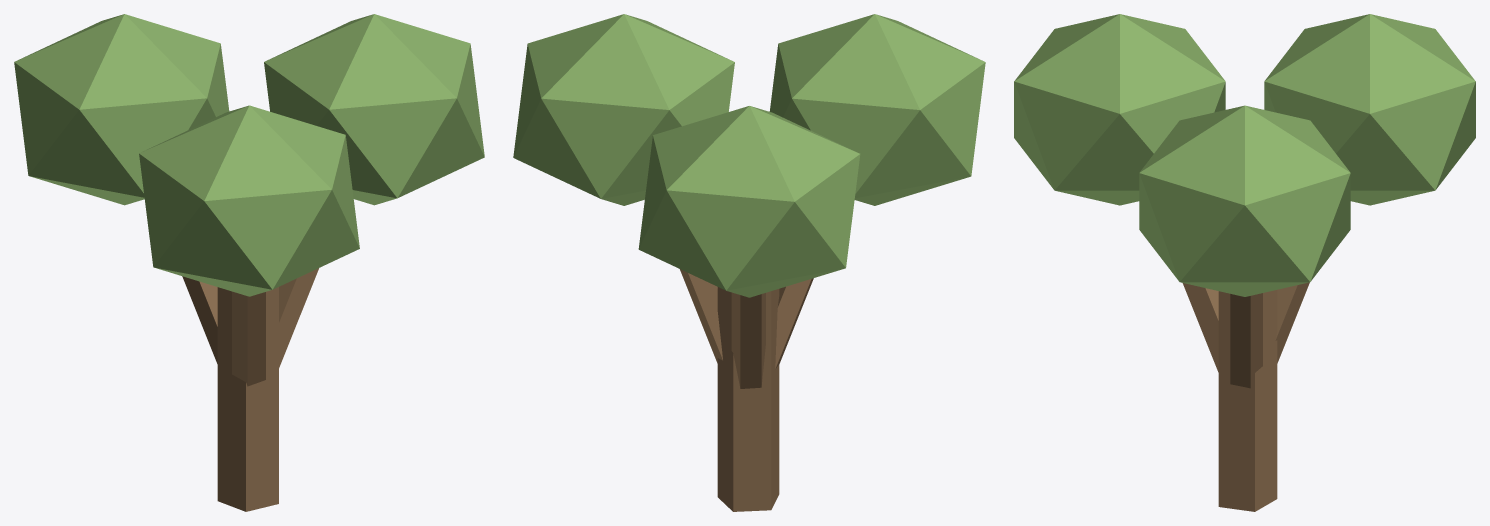
The model's file is plant_hazel_growing.glb.
The picture shows the model from 3 angles, left to right: view 1: azimuth 30°, elevation 25°; view 2: azimuth 150°, elevation 25°; view 3: azimuth 270°, elevation 25°; orthographic projection.
Parts seen in each view (by area): view 1: plant_hazel_growing; view 2: plant_hazel_growing; view 3: plant_hazel_growing.
Part boxes in pixels (bbox=[...]): plant_hazel_growing: bbox=[14, 14, 484, 511]; plant_hazel_growing: bbox=[513, 14, 985, 511]; plant_hazel_growing: bbox=[1014, 14, 1475, 511].
Bounding box in the file's own units: 0.6081 × 0.6945 × 0.6395.
